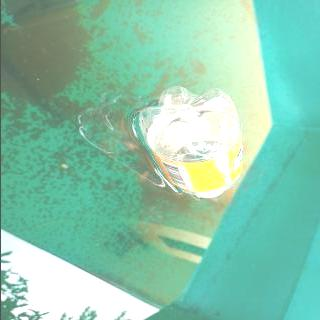bottle: (132, 85, 242, 198)
